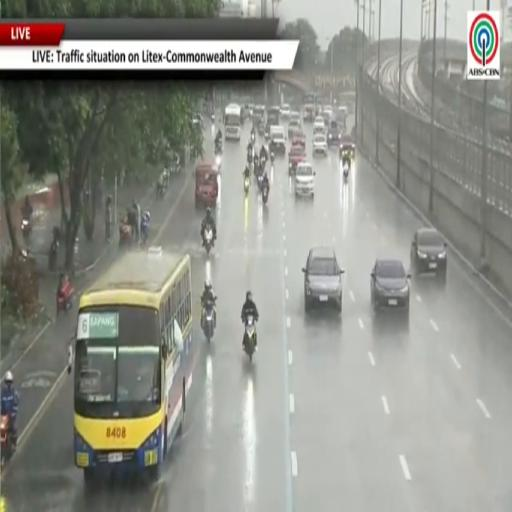bus: (68, 248, 197, 485), (224, 104, 242, 140)
car: (303, 247, 344, 313), (371, 260, 410, 314), (411, 228, 447, 282), (294, 161, 316, 197), (289, 144, 306, 173), (270, 126, 285, 154), (328, 120, 341, 146), (313, 133, 327, 155), (291, 130, 306, 149), (288, 120, 300, 138), (303, 104, 315, 122), (313, 122, 325, 135), (290, 111, 301, 125), (280, 104, 290, 119), (322, 111, 331, 127), (322, 105, 332, 116), (314, 116, 324, 124)
motorcycle: (0, 414, 14, 469), (57, 281, 74, 315), (244, 315, 255, 361), (202, 301, 214, 342), (119, 220, 133, 247), (48, 239, 59, 272), (141, 212, 150, 246), (21, 218, 31, 244), (204, 227, 213, 255), (343, 159, 350, 179), (262, 186, 269, 204), (253, 155, 259, 174), (257, 171, 263, 190), (244, 176, 250, 195), (105, 220, 110, 242), (215, 140, 222, 155), (260, 154, 266, 170), (343, 164, 349, 180), (216, 154, 221, 169), (248, 150, 253, 165), (270, 152, 275, 166), (251, 132, 255, 143), (211, 115, 215, 123)
